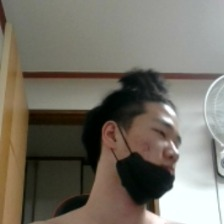OffMask: (101, 137, 196, 204)
